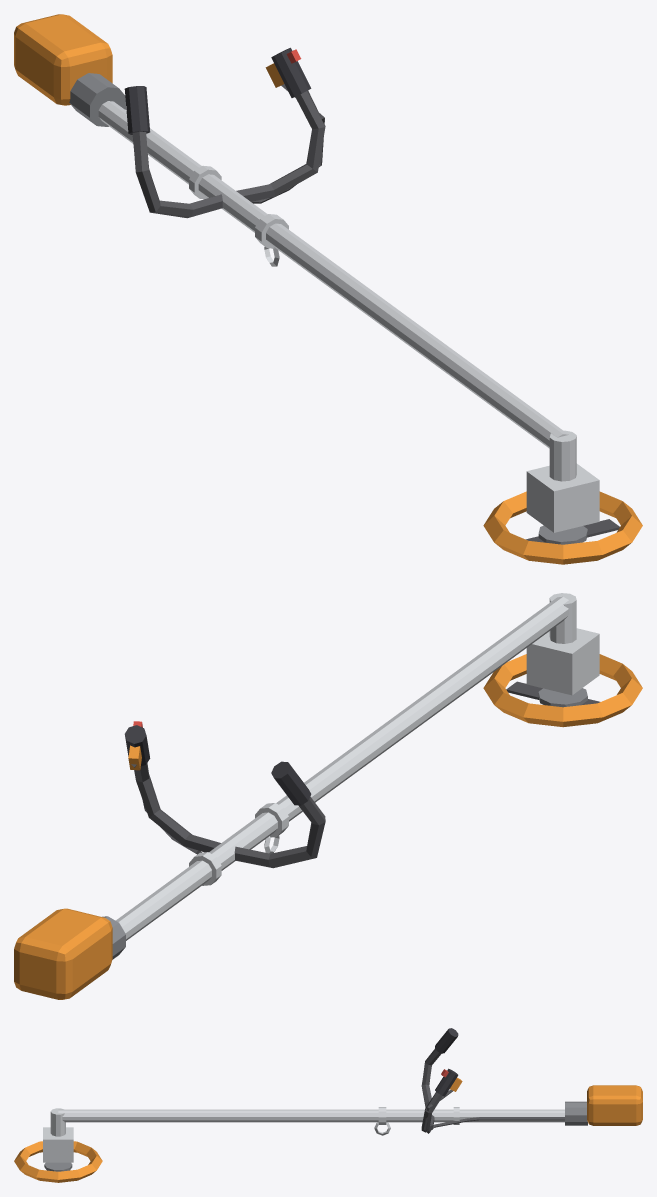
Rendered from desbrozadora.glb.
The picture shows the model from 3 angles, top to bottom: view 1: azimuth 30°, elevation 25°; view 2: azimuth 150°, elevation 25°; view 3: azimuth 270°, elevation 25°; orthographic projection. The views are drawn at different scales.
Parts seen in each view (by area): view 1: Barra, Cabezal_Corta, Manillar, Motor; view 2: Barra, Cabezal_Corta, Motor, Manillar; view 3: Barra, Cabezal_Corta, Motor, Manillar.
Part boxes in pixels (x1,y1,x2,y2): Barra: [98, 101, 568, 448]; Cabezal_Corta: [483, 430, 642, 564]; Manillar: [124, 47, 325, 266]; Motor: [14, 14, 125, 126]; Barra: [116, 596, 568, 940]; Cabezal_Corta: [483, 593, 642, 727]; Motor: [14, 908, 125, 999]; Manillar: [124, 721, 325, 885]; Barra: [58, 1109, 564, 1122]; Cabezal_Corta: [14, 1108, 102, 1182]; Motor: [565, 1085, 642, 1125]; Manillar: [374, 1028, 564, 1135].
Bounding box in the file's own units: 0.4781 × 0.5158 × 2.46.
